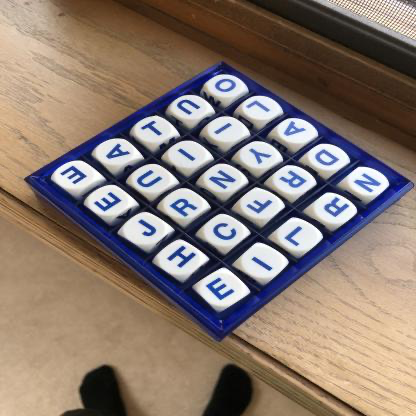a: (97, 141, 135, 166), (279, 120, 316, 145)
c: (205, 218, 246, 247)
d: (310, 145, 348, 171)
e: (200, 273, 245, 307), (90, 188, 129, 217), (57, 163, 95, 190)
f: (242, 190, 282, 220)
h: (158, 243, 204, 276)
i: (242, 246, 286, 280), (169, 143, 206, 170), (209, 118, 246, 144)
j: (125, 215, 168, 246)
l: (278, 221, 322, 252), (243, 98, 279, 121)
n: (205, 166, 247, 195), (350, 169, 390, 196)
o: (207, 75, 244, 99)
r: (315, 195, 357, 225), (165, 191, 204, 220), (275, 168, 315, 195)
t: (135, 118, 172, 143)
u: (133, 166, 172, 195), (175, 96, 209, 121)
y: (242, 143, 279, 169)
